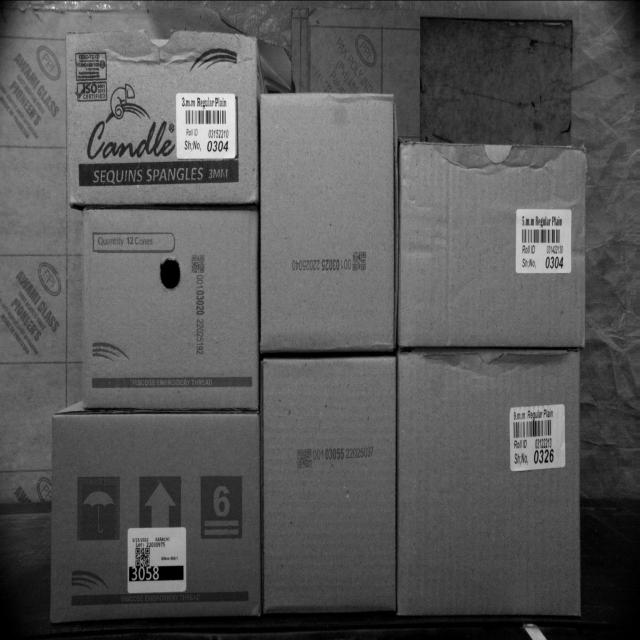cardboxes: (397, 350, 584, 615), (52, 418, 262, 616), (398, 144, 587, 349), (81, 208, 258, 410), (264, 355, 398, 610), (68, 28, 257, 204)
